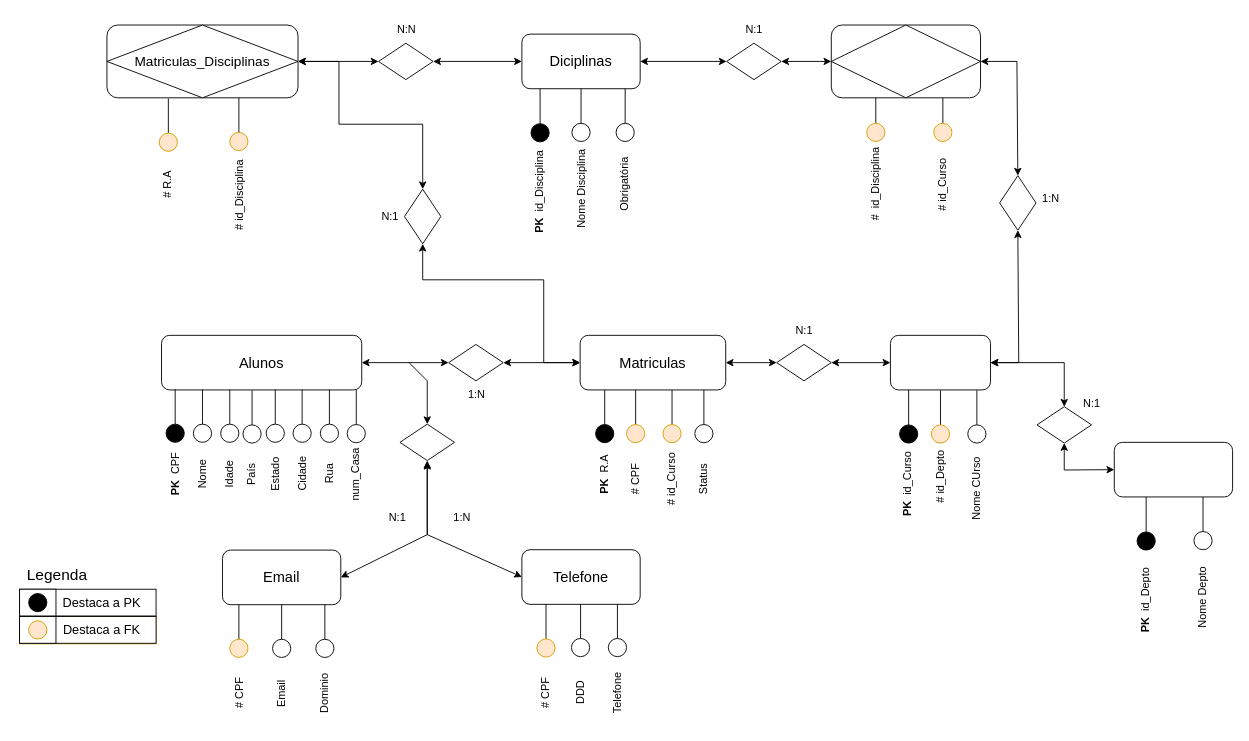
The diagram is 1249 pixels wide and 741 high, and some of its shapes have lost their labels. Each missing label, with the box of its shape:
Cursos: (890, 334, 991, 390)
Cursos_Disciplinas: (830, 24, 981, 98)
Departamentos: (1113, 441, 1233, 497)
